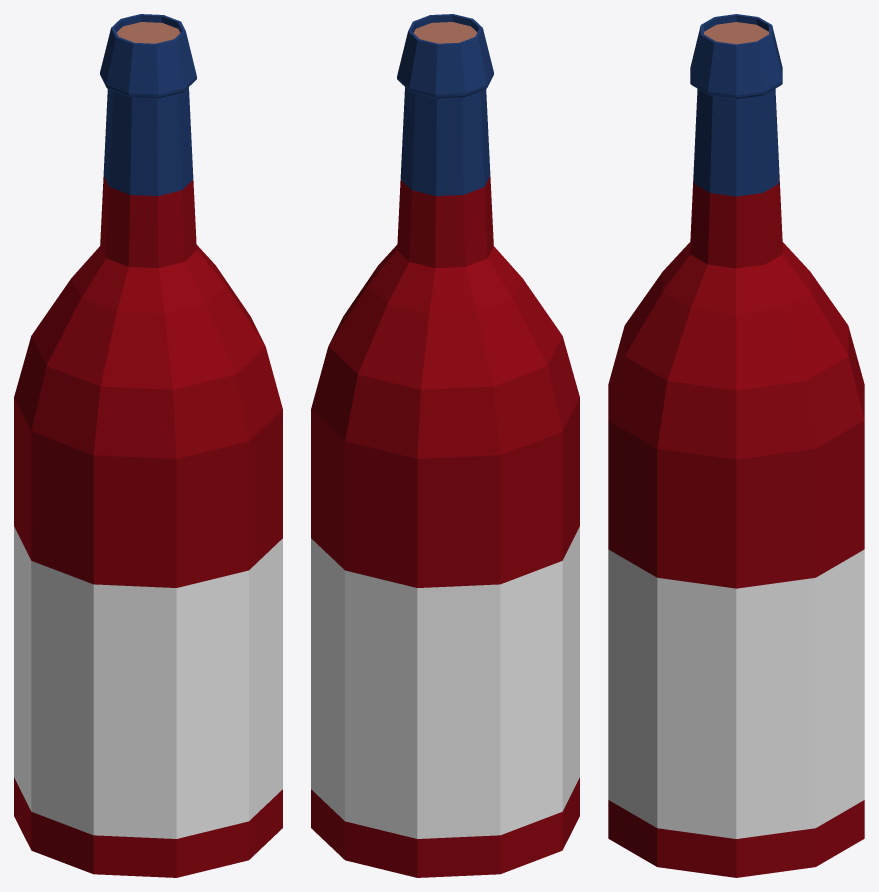
Rendered from bottle1.glb.
3 views of the same model, side by side, from view 1: azimuth 30°, elevation 25°; view 2: azimuth 150°, elevation 25°; view 3: azimuth 270°, elevation 25° (orthographic).
Visible parts, largest first — view 1: pCylinder1_yecan_blue_0; view 2: pCylinder1_yecan_blue_0; view 3: pCylinder1_yecan_blue_0.
Part boxes in pixels (x1,y1,x2,y2): pCylinder1_yecan_blue_0: [14, 14, 282, 877]; pCylinder1_yecan_blue_0: [311, 14, 579, 877]; pCylinder1_yecan_blue_0: [608, 14, 864, 877].
Size of the model in its own units: 42.7 by 138 by 40.61.
Materials: 4 (4 with a texture image).
